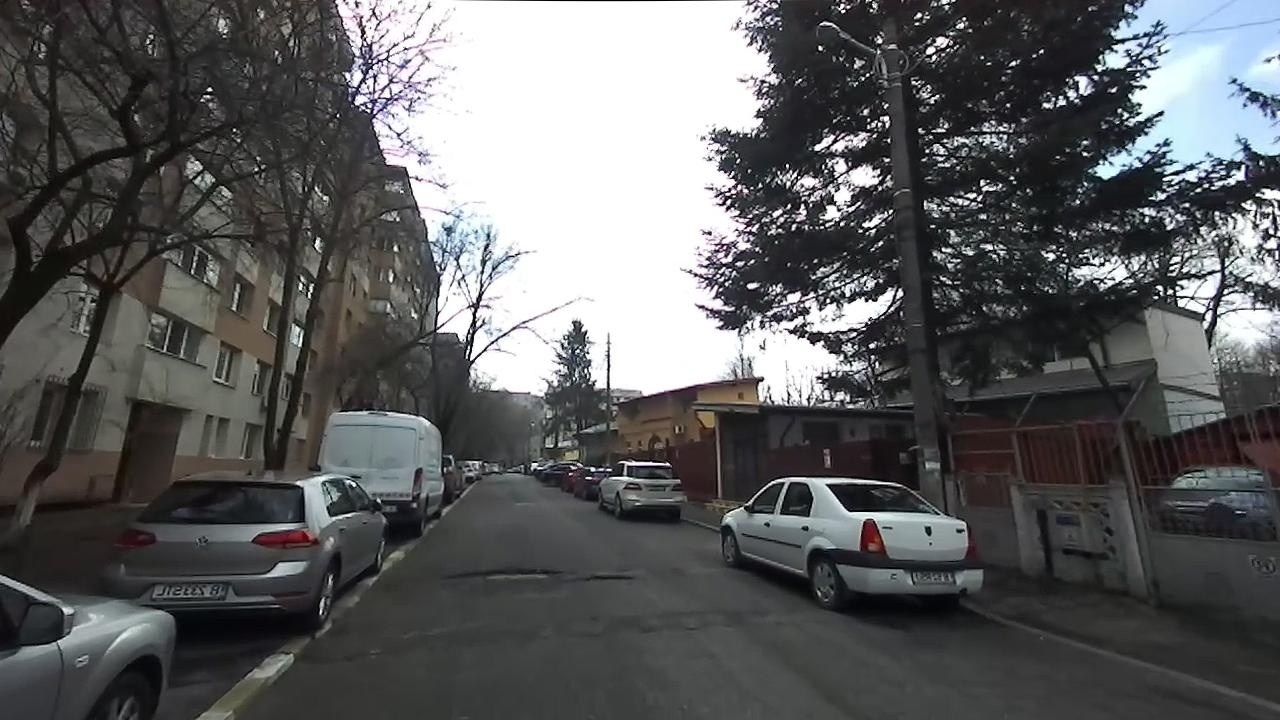pothole: (440, 562, 564, 585), (578, 571, 635, 584)
